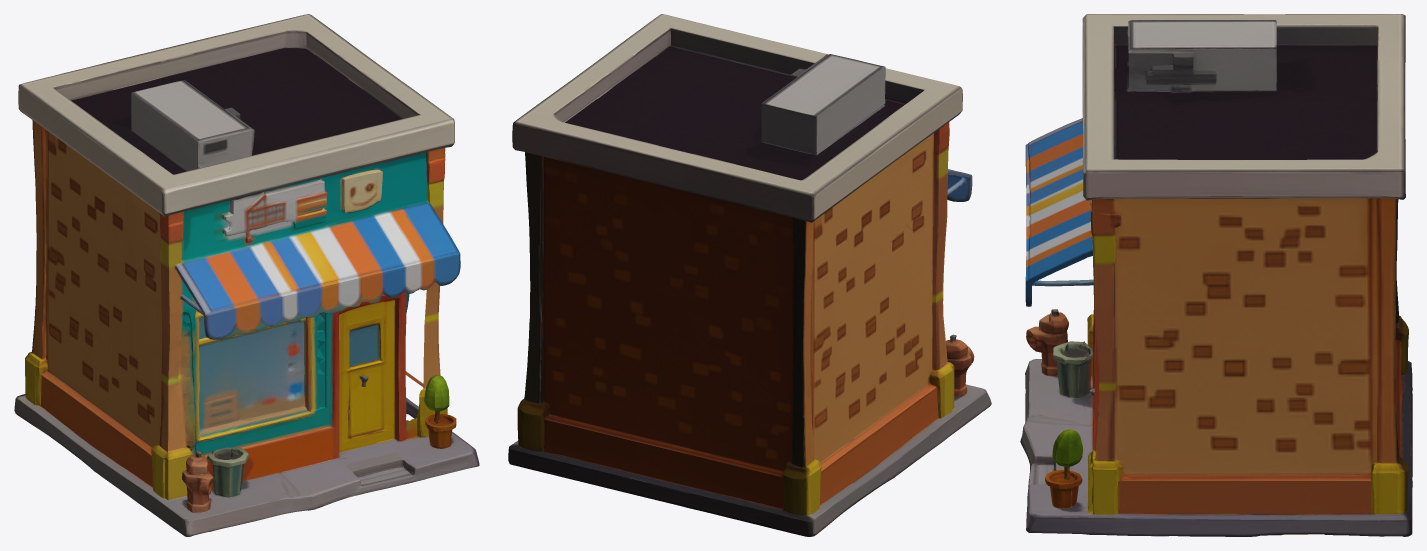
Rendered from shop-cafe.glb.
3 renders of one model, left to right at view 1: azimuth 30°, elevation 25°; view 2: azimuth 150°, elevation 25°; view 3: azimuth 270°, elevation 25°, orthographic. The views are drawn at different scales.
Visible parts, largest first — view 1: world; view 2: world; view 3: world.
Part boxes in pixels (x1,y1,x2,y2): world: [14, 14, 479, 536]; world: [508, 14, 991, 536]; world: [1020, 14, 1412, 536].
Bounding box in the file's own units: 0.8699 × 0.9845 × 0.9009.
Materials: 1 (1 with a texture image).
